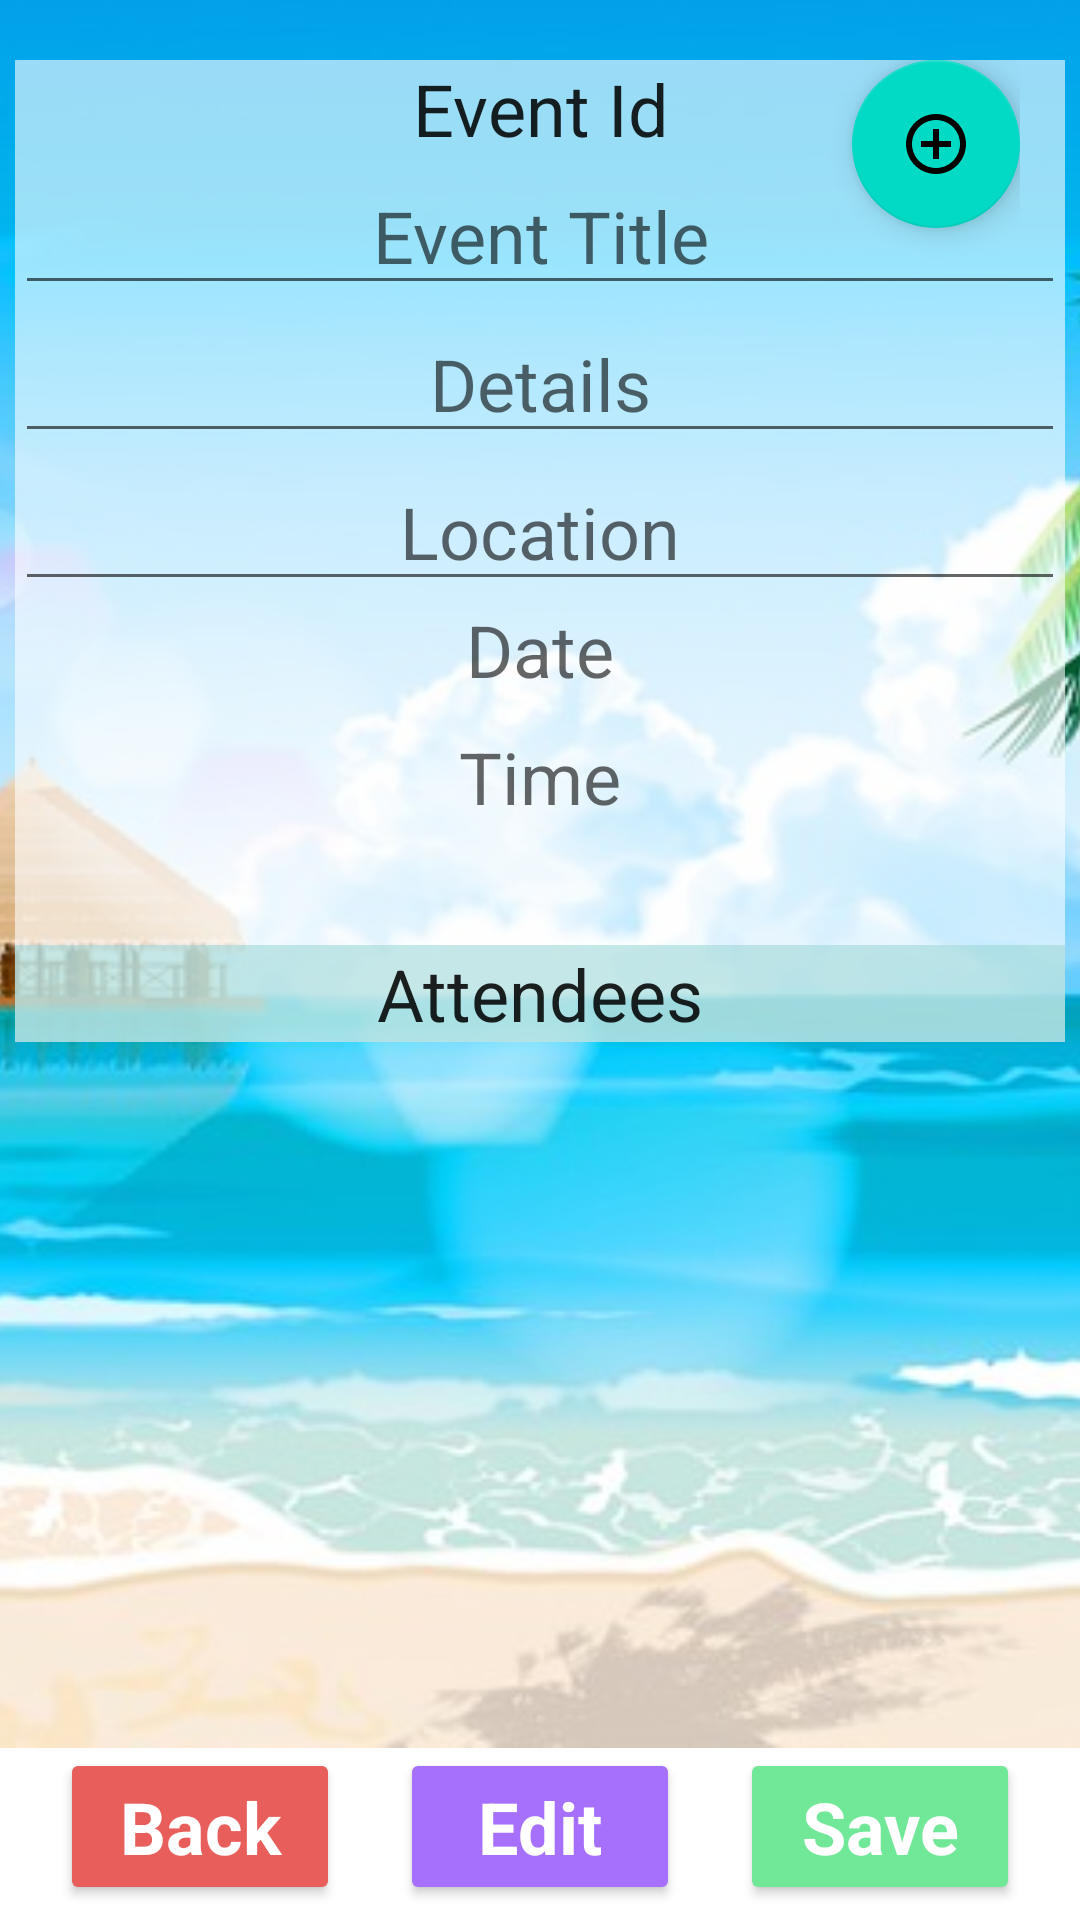

Named icons in this screenshot (1080px x 1920px) and their centers, point (x, y):
addeventfab: point (936, 144)
